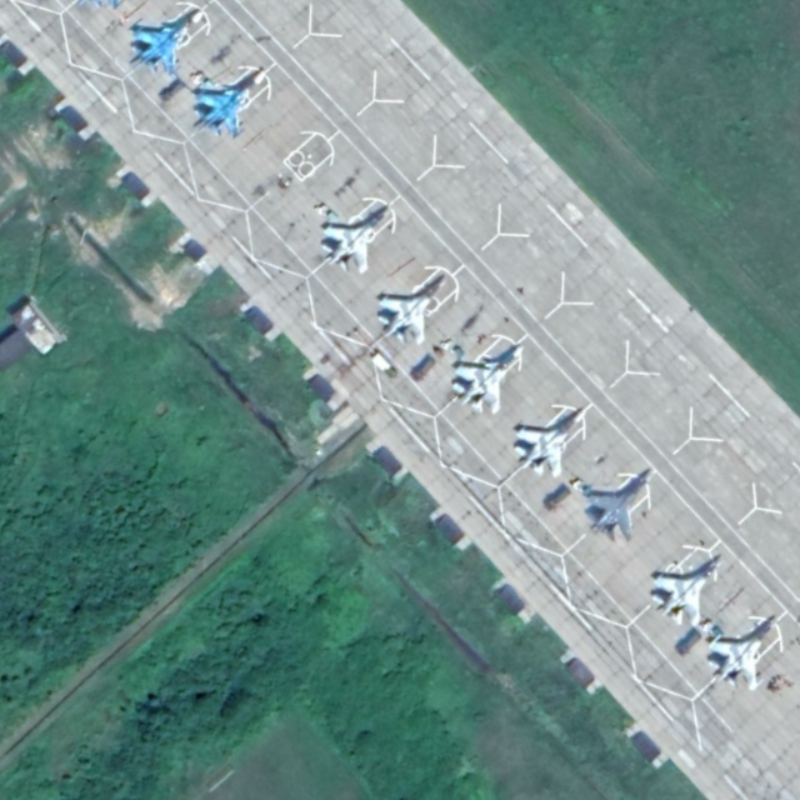A1: (578, 464, 661, 545), (645, 551, 727, 631), (702, 612, 783, 692), (510, 399, 593, 477), (370, 274, 452, 351), (317, 204, 393, 279)
A19: (185, 63, 275, 142), (124, 3, 210, 79), (446, 343, 526, 418)
